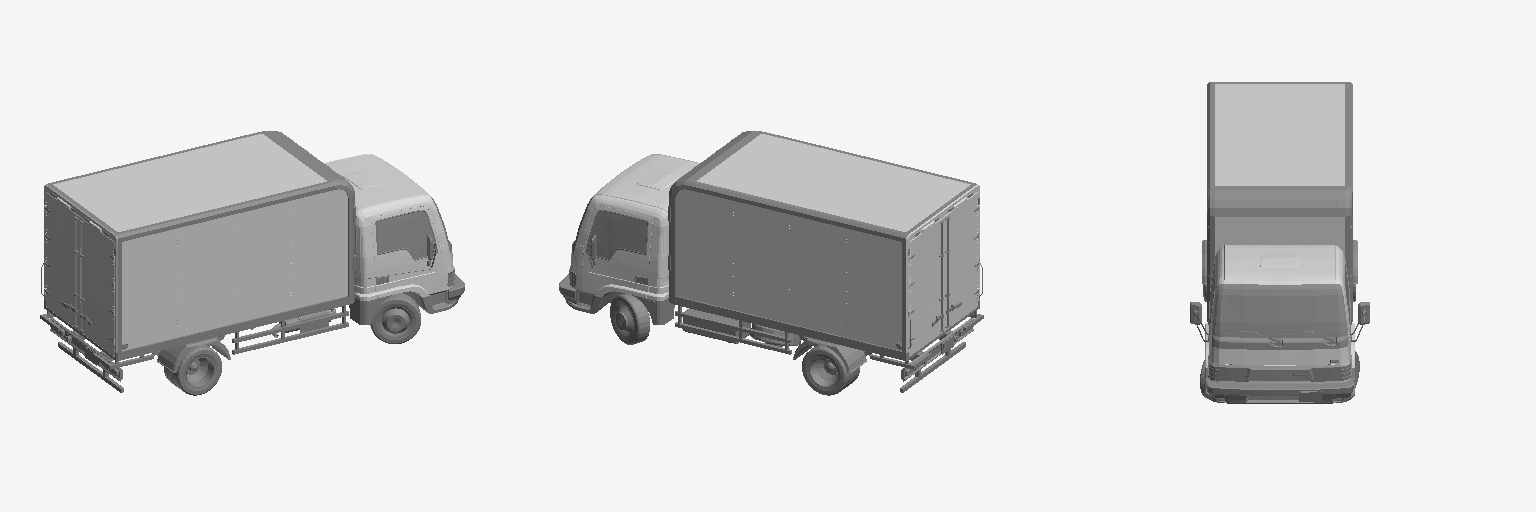
File: bus.obj
3 views of the same model, side by side, from view 1: azimuth 30°, elevation 25°; view 2: azimuth 150°, elevation 25°; view 3: azimuth 270°, elevation 25° (orthographic).
Parts seen in each view (by area): view 1: Cargo_box_Mesh.029, Cargo_box_Frame_Mesh.012, body_Mesh, Cargodoor_left_Mesh.047, Cargodoor_right_Mesh.049, Frame_Mesh.013, Door_Right_Mesh.040, wheel_FR_Mesh.007, Door_Glass_Right_Mesh.041, wheel_RR_Mesh.006, Bottom_Mesh.017, Bumper_rear_Mesh.046 (+1 smaller); view 2: Cargo_box_Mesh.029, Cargo_box_Frame_Mesh.012, body_Mesh, Cargodoor_right_Mesh.049, Cargodoor_left_Mesh.047, Frame_Mesh.013, Door_Left_Mesh.030, Door_Glass_Left_Mesh.016, wheel_RL_Mesh.005, wheel_FL_Mesh.004, Bottom_Mesh.017, Bottom_stuff_Mesh.015 (+1 smaller); view 3: Cargo_box_Mesh.029, body_Mesh, Cargo_box_Frame_Mesh.012, Windshield_Mesh.001, Bumper_front_Mesh.018, Windshield_trim_Mesh.009, Grill_Mesh.019, Headlights_Glass_Mesh.021.
Part boxes in pixels (left/top/right/bottom): Cargo_box_Mesh.029: left=44, top=134, right=347, bottom=352; Cargo_box_Frame_Mesh.012: left=41, top=131, right=355, bottom=360; body_Mesh: left=324, top=154, right=453, bottom=300; Cargodoor_left_Mesh.047: left=46, top=192, right=80, bottom=331; Cargodoor_right_Mesh.049: left=80, top=217, right=114, bottom=356; Frame_Mesh.013: left=40, top=306, right=348, bottom=392; Door_Right_Mesh.040: left=371, top=206, right=441, bottom=298; wheel_FR_Mesh.007: left=370, top=293, right=420, bottom=343; Door_Glass_Right_Mesh.041: left=377, top=211, right=436, bottom=258; wheel_RR_Mesh.006: left=164, top=344, right=221, bottom=395; Bottom_Mesh.017: left=349, top=290, right=448, bottom=324; Bumper_rear_Mesh.046: left=50, top=318, right=122, bottom=381; Cargo_box_Mesh.029: left=676, top=134, right=979, bottom=352; Cargo_box_Frame_Mesh.012: left=668, top=131, right=982, bottom=360; body_Mesh: left=570, top=154, right=699, bottom=300; Cargodoor_right_Mesh.049: left=943, top=192, right=977, bottom=331; Cargodoor_left_Mesh.047: left=909, top=217, right=943, bottom=356; Frame_Mesh.013: left=675, top=306, right=983, bottom=392; Door_Left_Mesh.030: left=582, top=206, right=652, bottom=298; Door_Glass_Left_Mesh.016: left=587, top=211, right=646, bottom=258; wheel_RL_Mesh.005: left=802, top=344, right=859, bottom=395; wheel_FL_Mesh.004: left=610, top=293, right=649, bottom=344; Bottom_Mesh.017: left=575, top=290, right=674, bottom=324; Bottom_stuff_Mesh.015: left=683, top=308, right=782, bottom=346; Cargo_box_Mesh.029: left=1215, top=84, right=1344, bottom=255; body_Mesh: left=1205, top=245, right=1354, bottom=383; Cargo_box_Frame_Mesh.012: left=1207, top=82, right=1352, bottom=321; Windshield_Mesh.001: left=1213, top=287, right=1346, bottom=334; Bumper_front_Mesh.018: left=1205, top=378, right=1354, bottom=403; Windshield_trim_Mesh.009: left=1212, top=284, right=1347, bottom=349; Grill_Mesh.019: left=1233, top=368, right=1349, bottom=381; Headlights_Glass_Mesh.021: left=1221, top=368, right=1338, bottom=380.
Size of the model in its own units: 6.03 by 2.84 by 2.61.